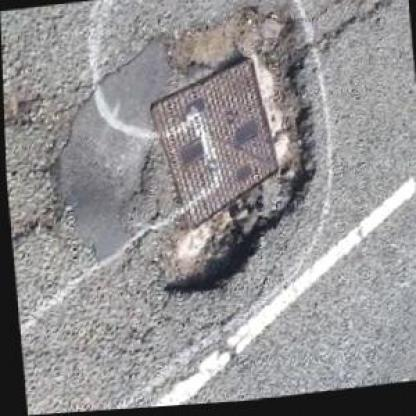pothole: (133, 0, 330, 302)
